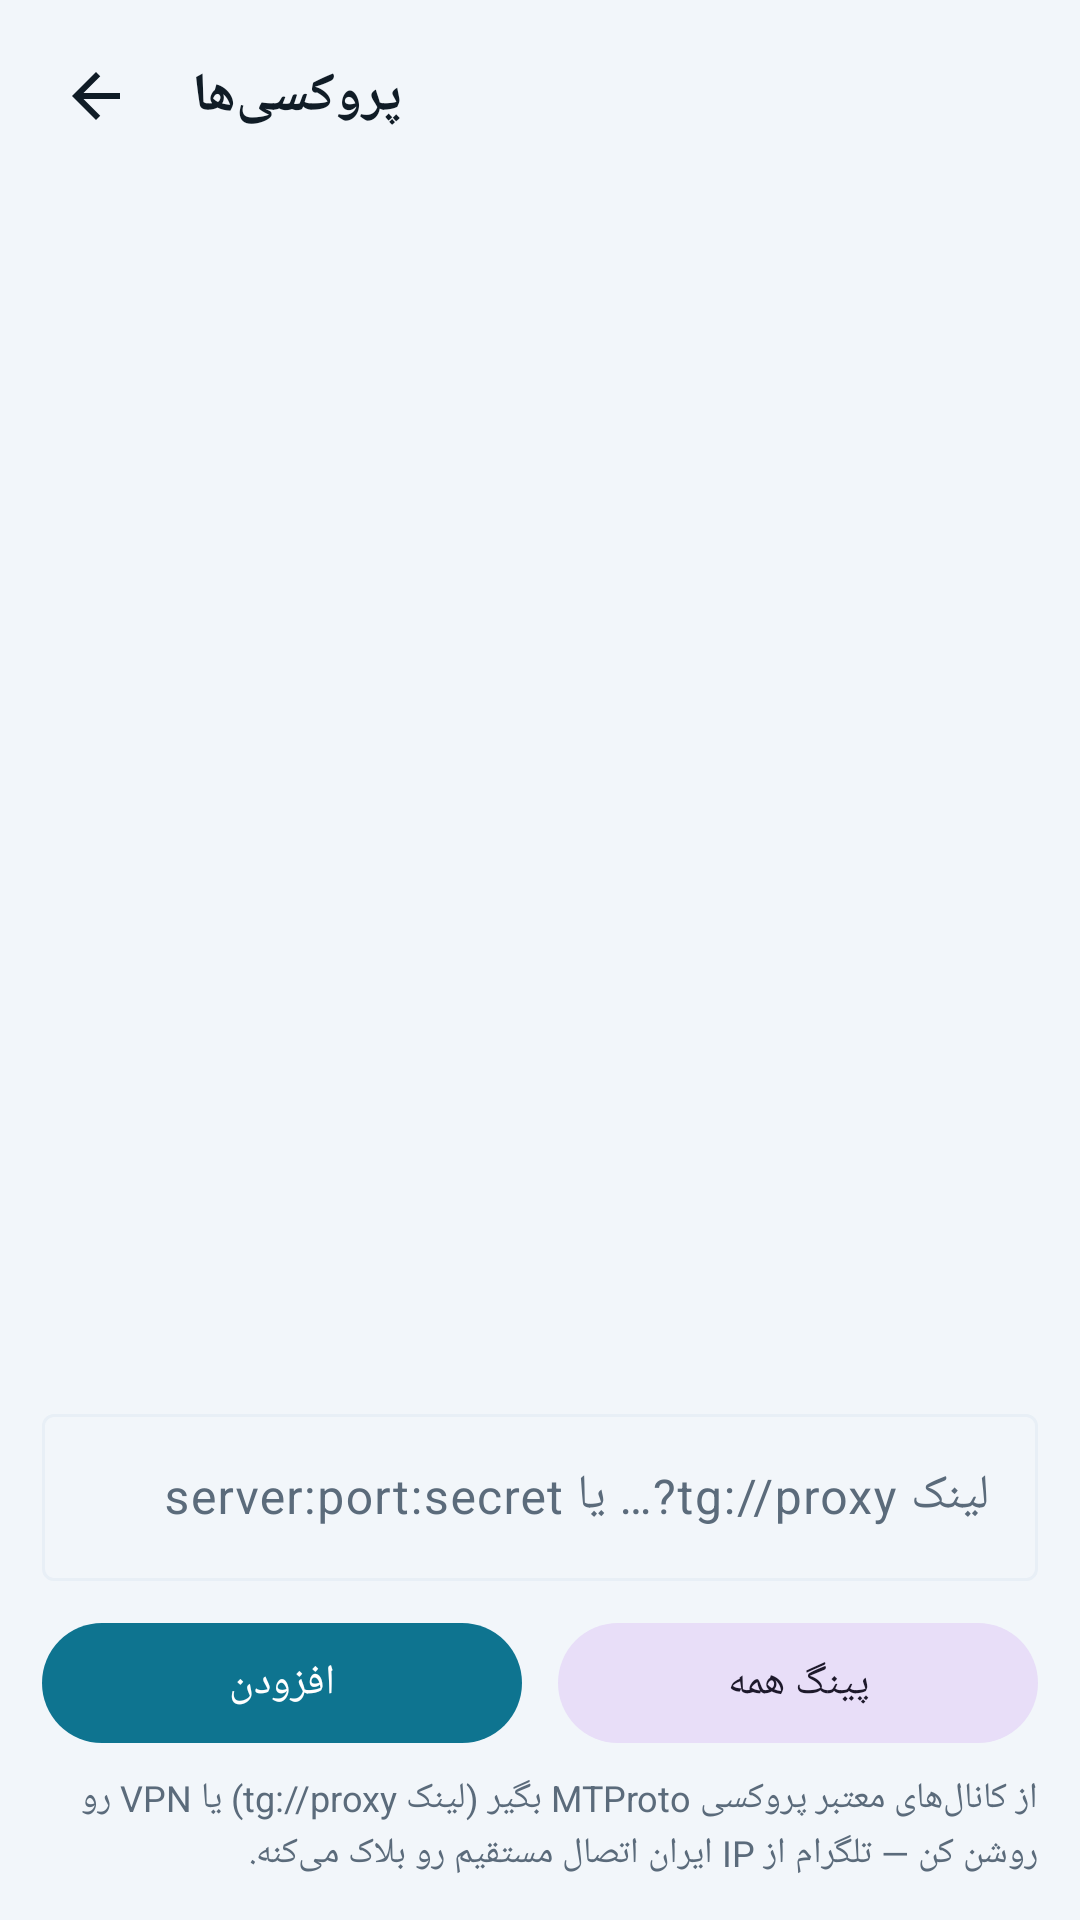

Screen size 1080w x 1920h. Icon name, then its center in pixels as [x,y]:
بازگشت: [96,96]
